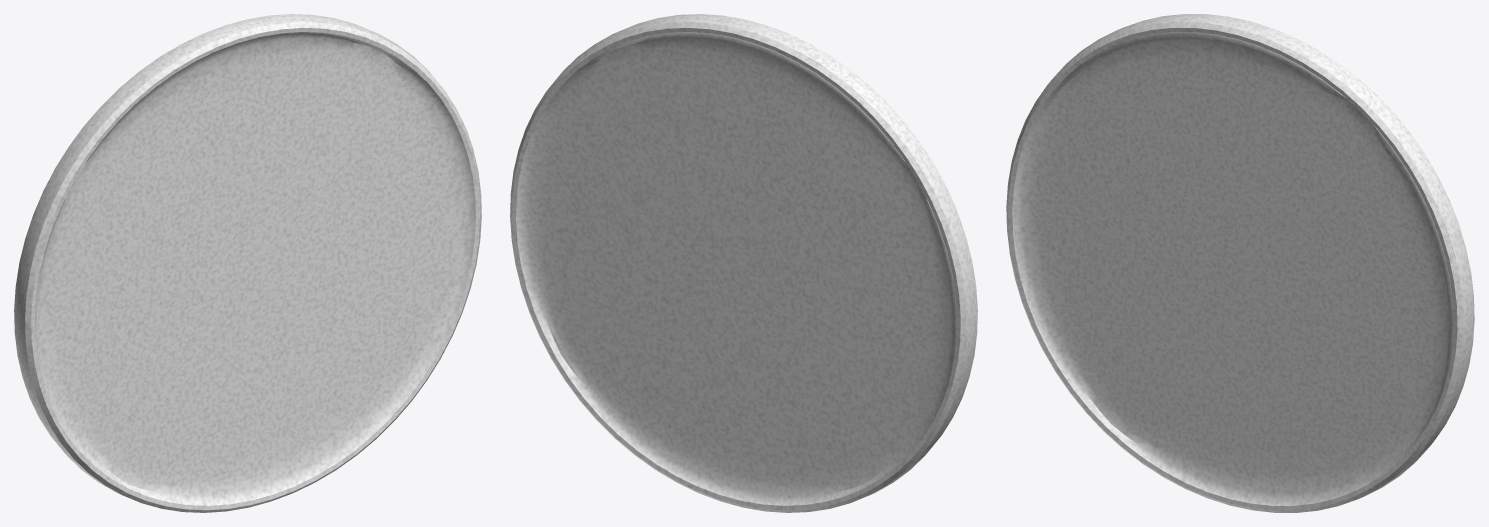
File: templer_dc.glb
3 renders of one model, left to right at view 1: azimuth 30°, elevation 25°; view 2: azimuth 150°, elevation 25°; view 3: azimuth 330°, elevation 25°, orthographic.
Visible parts, largest first — view 1: dc_Templer; view 2: dc_Templer; view 3: dc_Templer.
Boxes of the visible parts, bbox=[...] form: dc_Templer: bbox=[14, 14, 481, 512]; dc_Templer: bbox=[510, 14, 977, 512]; dc_Templer: bbox=[1006, 14, 1474, 512].
Size of the model in its own units: 182 by 182 by 10.49.
Materials: 1 (1 with a texture image).
